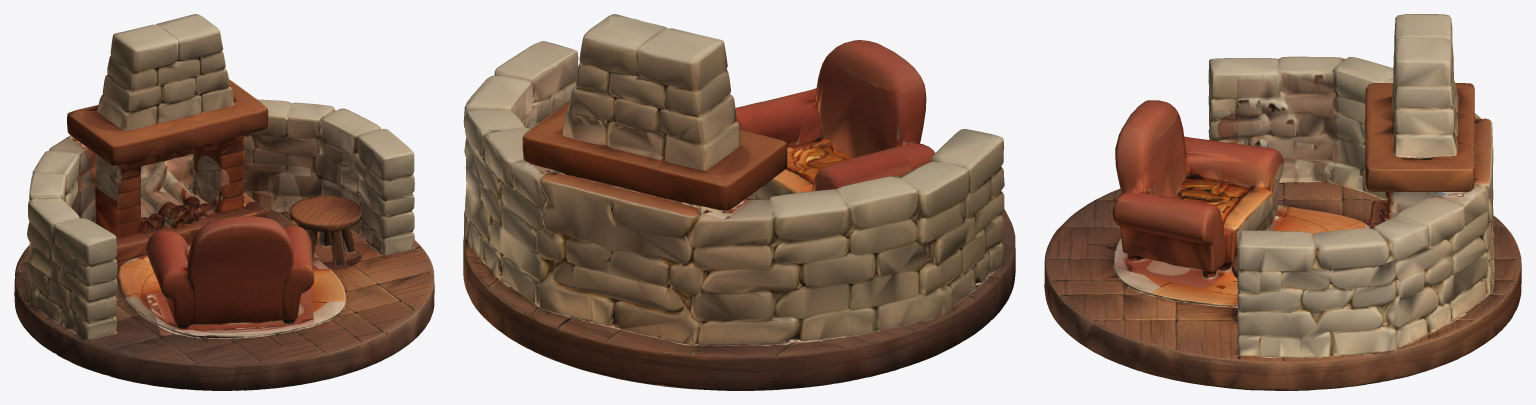
3 renders of one model, left to right at view 1: azimuth 30°, elevation 25°; view 2: azimuth 150°, elevation 25°; view 3: azimuth 270°, elevation 25°, orthographic. The views are drawn at different scales.
Visible parts, largest first — view 1: texture_mapping; view 2: texture_mapping; view 3: texture_mapping.
Boxes of the visible parts, x1,y1,x2,y2 form: texture_mapping: (14,14,434,390); texture_mapping: (463,14,1015,390); texture_mapping: (1044,14,1521,390).
Bounding box in the file's own units: 0.9987 × 0.6016 × 0.9994.
1 material, 1 textured.
